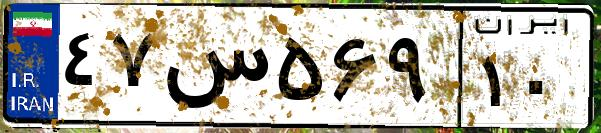0: (525, 38, 570, 115)
1: (475, 38, 525, 113)
4: (57, 26, 110, 100)
5: (270, 28, 330, 110)
6: (330, 28, 385, 110)
7: (110, 28, 158, 98)
9: (385, 28, 445, 110)
س: (158, 20, 270, 120)
